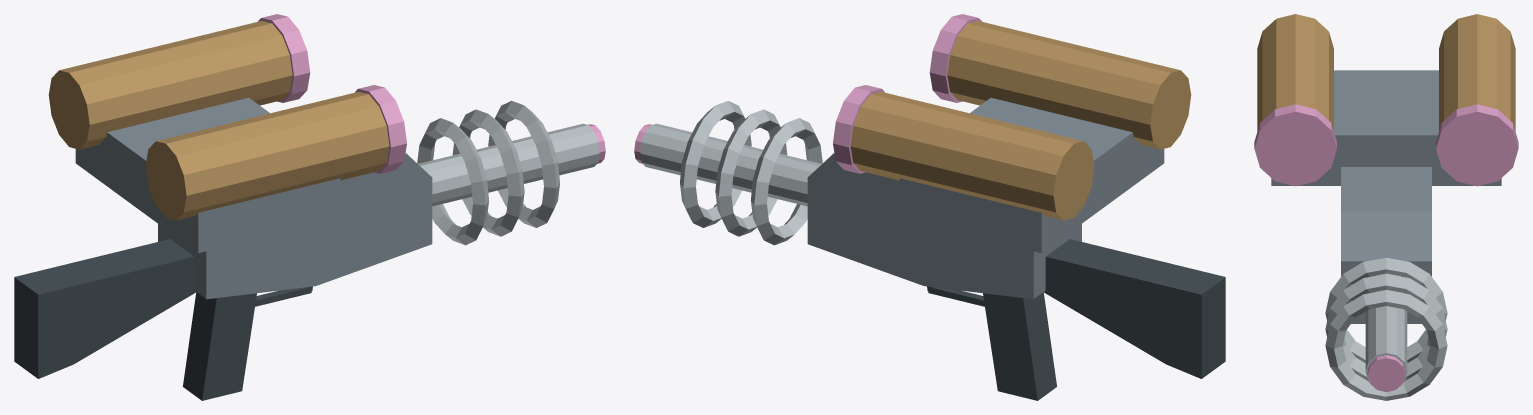
Rendered from w30-winter-verdict-static.glb.
The picture shows the model from 3 angles, left to right: view 1: azimuth 30°, elevation 25°; view 2: azimuth 150°, elevation 25°; view 3: azimuth 270°, elevation 25°; orthographic projection. The views are drawn at different scales.
Parts seen in each view (by area): view 1: w30-winter-verdict__fluid_tank_-0.001, w30-winter-verdict__fluid_tank_0.001, w30-winter-verdict__receiver.001, w30-winter-verdict__stock.001, w30-winter-verdict__fluid_manifold.001, w30-winter-verdict__grip.001, w30-winter-verdict__barrel.001, w30-winter-verdict__nozzle_fin_0.001, w30-winter-verdict__nozzle_fin_1.001, w30-winter-verdict__nozzle_fin_2.001, w30-winter-verdict__tank_cap_0.001, w30-winter-verdict__tank_cap_-0.001 (+1 smaller); view 2: w30-winter-verdict__fluid_tank_0.001, w30-winter-verdict__fluid_tank_-0.001, w30-winter-verdict__receiver.001, w30-winter-verdict__stock.001, w30-winter-verdict__fluid_manifold.001, w30-winter-verdict__grip.001, w30-winter-verdict__barrel.001, w30-winter-verdict__nozzle_fin_0.001, w30-winter-verdict__nozzle_fin_1.001, w30-winter-verdict__nozzle_fin_2.001, w30-winter-verdict__tank_cap_-0.001, w30-winter-verdict__tank_cap_0.001 (+1 smaller); view 3: w30-winter-verdict__fluid_manifold.001, w30-winter-verdict__receiver.001, w30-winter-verdict__fluid_tank_-0.001, w30-winter-verdict__fluid_tank_0.001, w30-winter-verdict__tank_cap_-0.001, w30-winter-verdict__tank_cap_0.001, w30-winter-verdict__nozzle_fin_2.001, w30-winter-verdict__nozzle_fin_1.001, w30-winter-verdict__nozzle_fin_0.001, w30-winter-verdict__barrel.001, w30-winter-verdict__fluid_aperture.001.
Boxes of the visible parts, x1,y1,x2,y2 form: w30-winter-verdict__fluid_tank_-0.001: (145, 91, 389, 220); w30-winter-verdict__fluid_tank_0.001: (48, 21, 292, 149); w30-winter-verdict__receiver.001: (158, 153, 432, 299); w30-winter-verdict__stock.001: (14, 239, 196, 378); w30-winter-verdict__fluid_manifold.001: (75, 97, 340, 252); w30-winter-verdict__grip.001: (183, 292, 256, 400); w30-winter-verdict__barrel.001: (418, 123, 599, 206); w30-winter-verdict__nozzle_fin_0.001: (417, 118, 488, 245); w30-winter-verdict__nozzle_fin_1.001: (452, 109, 524, 236); w30-winter-verdict__nozzle_fin_2.001: (488, 100, 559, 227); w30-winter-verdict__tank_cap_0.001: (258, 14, 310, 102); w30-winter-verdict__tank_cap_-0.001: (355, 85, 406, 173); w30-winter-verdict__fluid_tank_0.001: (850, 91, 1094, 220); w30-winter-verdict__fluid_tank_-0.001: (947, 21, 1191, 149); w30-winter-verdict__receiver.001: (807, 153, 1081, 299); w30-winter-verdict__stock.001: (1043, 239, 1225, 378); w30-winter-verdict__fluid_manifold.001: (899, 97, 1164, 252); w30-winter-verdict__grip.001: (983, 292, 1056, 400); w30-winter-verdict__barrel.001: (640, 123, 821, 206); w30-winter-verdict__nozzle_fin_0.001: (751, 118, 822, 245); w30-winter-verdict__nozzle_fin_1.001: (715, 109, 787, 236); w30-winter-verdict__nozzle_fin_2.001: (680, 100, 751, 227); w30-winter-verdict__tank_cap_-0.001: (929, 14, 981, 102); w30-winter-verdict__tank_cap_0.001: (833, 85, 884, 173); w30-winter-verdict__fluid_manifold.001: (1271, 70, 1501, 185); w30-winter-verdict__receiver.001: (1341, 167, 1431, 323); w30-winter-verdict__fluid_tank_-0.001: (1257, 14, 1333, 130); w30-winter-verdict__fluid_tank_0.001: (1439, 14, 1515, 130); w30-winter-verdict__tank_cap_-0.001: (1254, 104, 1336, 186); w30-winter-verdict__tank_cap_0.001: (1436, 104, 1518, 186); w30-winter-verdict__nozzle_fin_2.001: (1325, 290, 1447, 400); w30-winter-verdict__nozzle_fin_1.001: (1325, 274, 1447, 380); w30-winter-verdict__nozzle_fin_0.001: (1325, 257, 1447, 362); w30-winter-verdict__barrel.001: (1365, 273, 1407, 382); w30-winter-verdict__fluid_aperture.001: (1367, 355, 1405, 392).
Size of the model in its own units: 0.8826 by 0.454 by 0.378.
